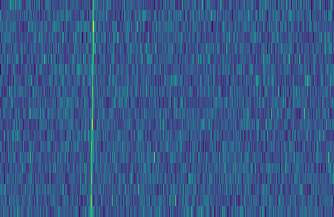signal: (84, 0, 95, 217)
